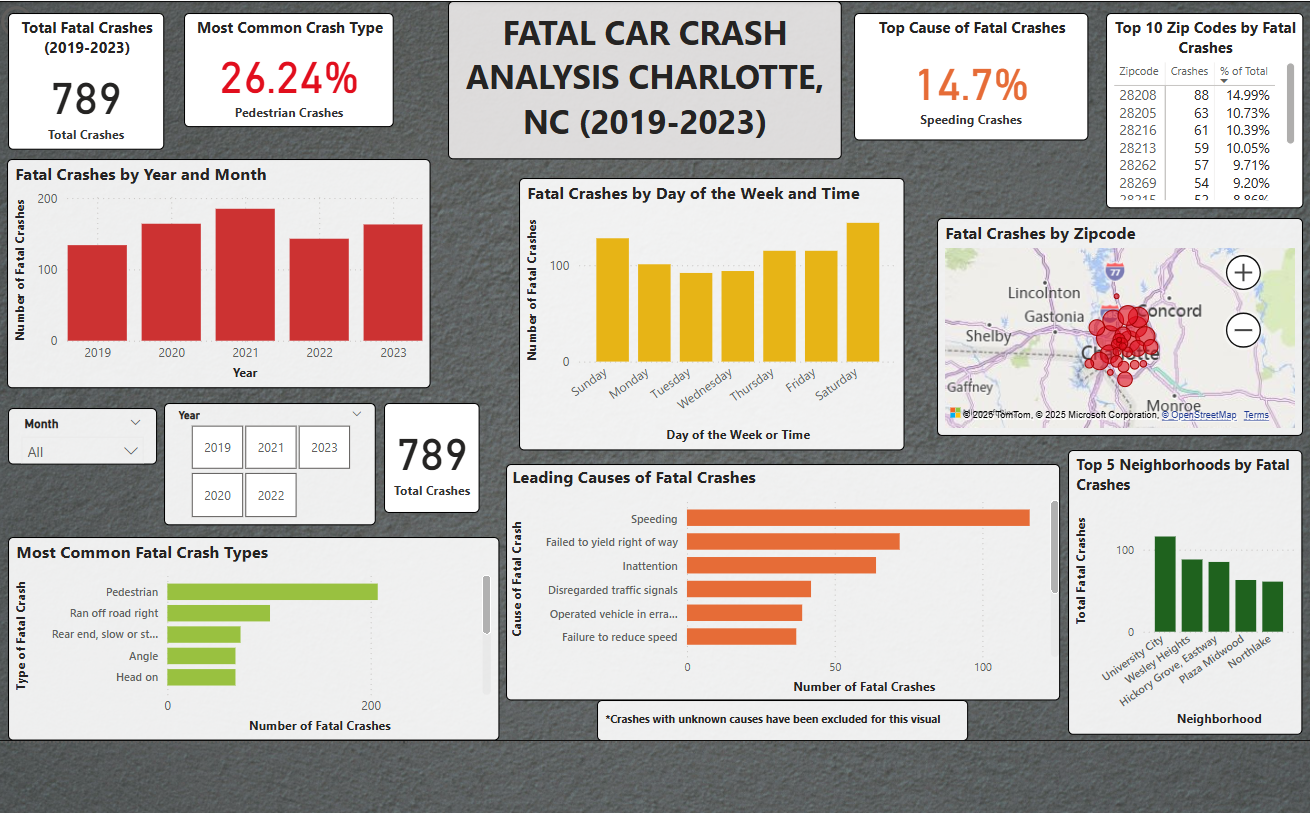

The page's visual inventory and layout, read from the dashboard file:
{"tool":"powerbi","page":{"name":"Overall Statistics","canvas":[1280,720],"ordinal":0},"visuals":[{"type":"clusteredColumnChart","title":"Fatal Crashes by Year and Month","fields":{"Category":["Fatal_or_Serious_Injury_Crashes.Day of the Week  Hieararchy.Year","Fatal_or_Serious_Injury_Crashes.Day of the Week  Hieararchy.Month(Name)"],"Y":["Fatal_or_Serious_Injury_Crashes.TotalCrashes"]},"box":[10.7,153.7,412.4,222.7],"z":0},{"type":"actionButton","box":[0,0,100,40],"z":1000},{"type":"clusteredBarChart","title":"Most Common Fatal Crash Types","fields":{"Category":["Fatal_or_Serious_Injury_Crashes.CRASH_TYPE"],"Y":["Fatal_or_Serious_Injury_Crashes.TotalCrashes"]},"box":[12,521.7,472.3,192.8],"z":2000},{"type":"clusteredBarChart","title":"Leading Causes of Fatal Crashes","fields":{"Category":["Fatal_or_Serious_Injury_Crashes.PrimaryDescription"],"Y":["Fatal_or_Serious_Injury_Crashes.TotalCrashes"]},"box":[496,450.3,538.8,229.5],"z":3000},{"type":"textbox","box":[439.7,0,383.3,154],"z":4000},{"type":"textbox","box":[584.6,679.9,360.9,39.9],"z":5000},{"type":"card","title":"Most Common Crash Type","fields":{"Values":["Fatal_or_Serious_Injury_Crashes.PercentageofPedestrianCrashes"]},"box":[182.9,11.7,204.3,110.9],"z":6000},{"type":"slicer","fields":{"Values":["Fatal_or_Serious_Injury_Crashes.Day of the Week  Hieararchy.Month(Name)"]},"box":[11.6,395.8,145.1,54.6],"z":7000},{"type":"card","title":"Total Fatal Crashes (2019-2023)","fields":{"Values":["Fatal_or_Serious_Injury_Crashes.TotalCrashes"]},"box":[11.7,11.7,151.7,133.3],"z":8000},{"type":"slicer","fields":{"Values":["Fatal_or_Serious_Injury_Crashes.Day of the Week  Hieararchy.Year"]},"box":[163.4,391,206.2,118.7],"z":9000},{"type":"card","fields":{"Values":["Fatal_or_Serious_Injury_Crashes.TotalCrashes"]},"box":[377.4,391,93.4,107],"z":10000},{"type":"clusteredColumnChart","title":"Fatal Crashes by Day of the Week and Time","fields":{"Category":["Fatal_or_Serious_Injury_Crashes.Date.Day of Week","Fatal_or_Serious_Injury_Crashes.Date.HOUR_INTERVAL"],"Y":["Fatal_or_Serious_Injury_Crashes.TotalCrashes"]},"box":[508.7,172.2,375.4,264.6],"z":11000},{"type":"map","title":"Fatal Crashes by Zipcode","fields":{"Size":["Fatal_or_Serious_Injury_Crashes.TotalCrashes"],"Category":["Fatal_or_Serious_Injury_Crashes.Zipcode"]},"box":[915.3,211.1,356,212],"z":12000},{"type":"pivotTable","title":"Top 10 Zip Codes by Fatal Crashes","fields":{"Values":["Fatal_or_Serious_Injury_Crashes.TotalCrashes","Divide(Fatal_or_Serious_Injury_Crashes.TotalCrashes, ScopedEval(Fatal_or_Serious_Injury_Crashes.TotalCrashes, []))"],"Rows":["Fatal_or_Serious_Injury_Crashes.Zipcode"]},"box":[1079.6,11.7,191.6,189.7],"z":13000},{"type":"card","title":"Top Cause of Fatal Crashes","fields":{"Values":["Fatal_or_Serious_Injury_Crashes.SpeedingCasesPercentage"]},"box":[834.5,11.7,227.6,124.5],"z":14000},{"type":"clusteredColumnChart","title":"Top 5 Neighborhoods by Fatal Crashes","fields":{"Category":["Fatal_or_Serious_Injury_Crashes.Neighborhood Area"],"Y":["Fatal_or_Serious_Injury_Crashes.TotalCrashes"]},"box":[1042.4,437,228.4,276.7],"z":15000}]}

Visuals, with their boxes on the page's 1280x720 design canvas (x1, y1, x2, y2). These are canvas units, not pixel positions in the 1310x813 screenshot, which may show the page scaled, cropped or inside an application window:
"Fatal Crashes by Year and Month" clusteredColumnChart: bbox=(11, 154, 423, 376)
actionButton: bbox=(0, 0, 100, 40)
"Most Common Fatal Crash Types" clusteredBarChart: bbox=(12, 522, 484, 714)
"Leading Causes of Fatal Crashes" clusteredBarChart: bbox=(496, 450, 1035, 680)
textbox: bbox=(440, 0, 823, 154)
textbox: bbox=(585, 680, 946, 720)
"Most Common Crash Type" card: bbox=(183, 12, 387, 123)
slicer - Fatal_or_Serious_Injury_Crashes.Day of the Week  Hieararchy.Month(Name): bbox=(12, 396, 157, 450)
"Total Fatal Crashes (2019-2023)" card: bbox=(12, 12, 163, 145)
slicer - Fatal_or_Serious_Injury_Crashes.Day of the Week  Hieararchy.Year: bbox=(163, 391, 370, 510)
card - Fatal_or_Serious_Injury_Crashes.TotalCrashes: bbox=(377, 391, 471, 498)
"Fatal Crashes by Day of the Week and Time" clusteredColumnChart: bbox=(509, 172, 884, 437)
"Fatal Crashes by Zipcode" map: bbox=(915, 211, 1271, 423)
"Top 10 Zip Codes by Fatal Crashes" pivotTable: bbox=(1080, 12, 1271, 201)
"Top Cause of Fatal Crashes" card: bbox=(834, 12, 1062, 136)
"Top 5 Neighborhoods by Fatal Crashes" clusteredColumnChart: bbox=(1042, 437, 1271, 714)
